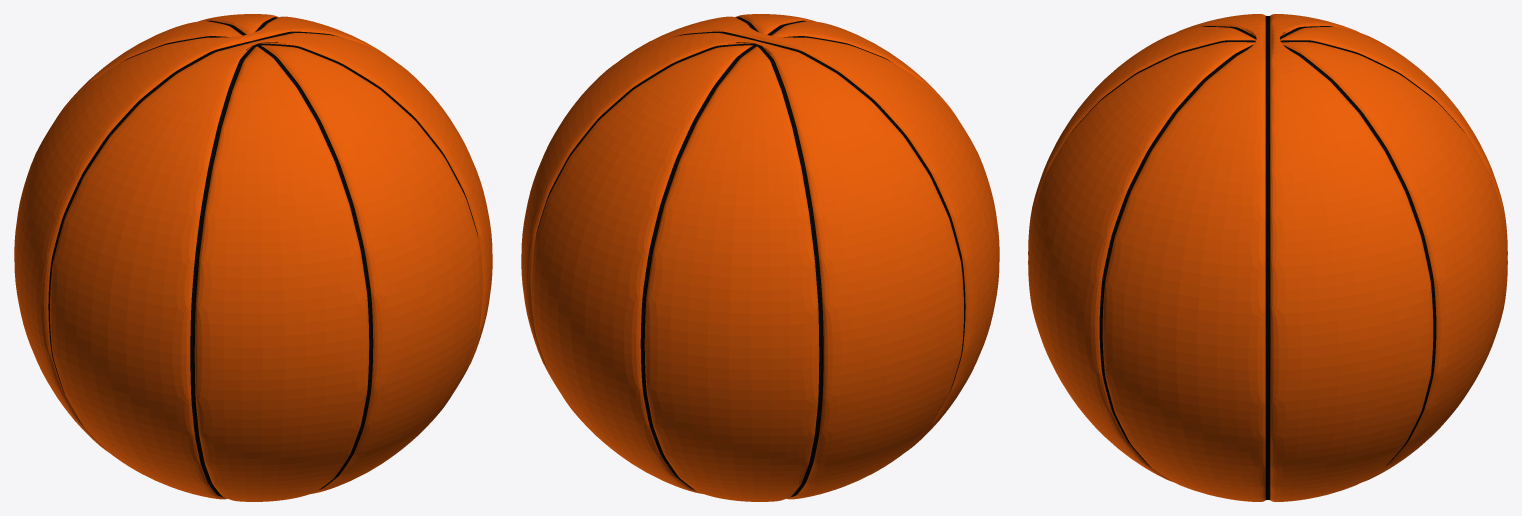
Rendered from ball3 (1).fbx.
3 views of the same model, side by side, from view 1: azimuth 30°, elevation 25°; view 2: azimuth 150°, elevation 25°; view 3: azimuth 270°, elevation 25° (orthographic).
Parts seen in each view (by area): view 1: Sphere; view 2: Sphere; view 3: Sphere.
Boxes of the visible parts, x1,y1,x2,y2 form: Sphere: (14, 14, 492, 501); Sphere: (521, 14, 999, 501); Sphere: (1028, 14, 1507, 501).
Size of the model in its own units: 194 by 196 by 194.
